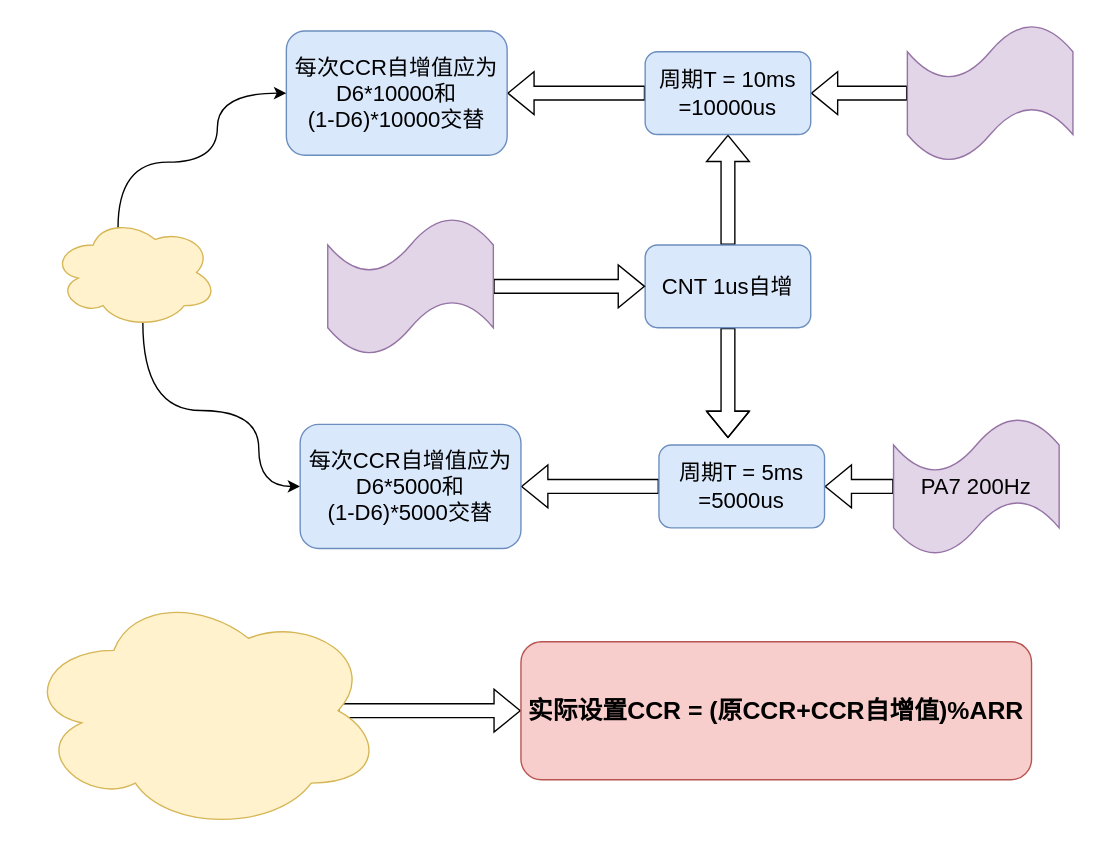
Image size: 1097x856. Some labels were removed from this diagram. Each missing label, with the centre of its shape:
PA6 100Hz: (x=989, y=92)
PSC=79: (x=409, y=285)
假设占空比 为D6、D7: (x=133, y=272)
需要注意，由于CNT 到达ARR后会溢出归零， 因此实际设置的CCR的值: (x=203, y=710)
